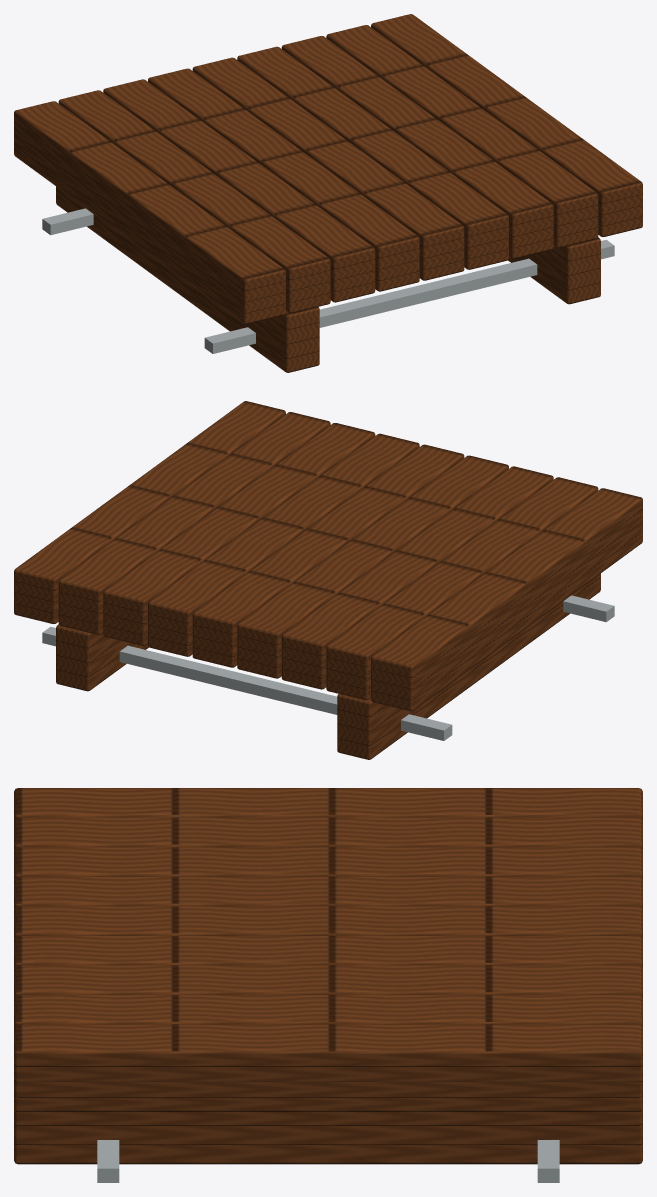
Rendered from modular-survival-base-builder-trench-bridge-foundation-a2714b58__24273.glb.
The picture shows the model from 3 angles, top to bottom: view 1: azimuth 30°, elevation 25°; view 2: azimuth 150°, elevation 25°; view 3: azimuth 270°, elevation 25°; orthographic projection. The views are drawn at different scales.
Parts seen in each view (by area): view 1: trench-bridge-foundation-reinforced; view 2: trench-bridge-foundation-reinforced; view 3: trench-bridge-foundation-reinforced.
Boxes of the visible parts, x1,y1,x2,y2 form: trench-bridge-foundation-reinforced: (14,14,642,372); trench-bridge-foundation-reinforced: (14,401,642,759); trench-bridge-foundation-reinforced: (14,788,642,1182).
Bounding box in the file's own units: 2 × 0.5001 × 2.
Materials: 2 (1 with a texture image).
